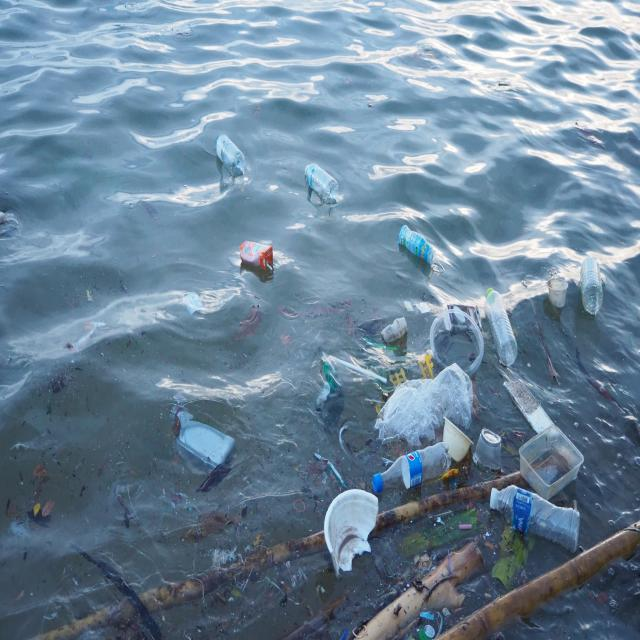foam: (322, 482, 380, 570), (502, 372, 559, 441)
plastic: (487, 482, 583, 550), (169, 398, 242, 470), (371, 438, 448, 487), (484, 281, 516, 363), (397, 225, 436, 266), (211, 131, 245, 175), (582, 247, 603, 317), (304, 162, 337, 204), (378, 313, 408, 344)
plastic bottle: (366, 371, 480, 448), (519, 425, 584, 495), (472, 429, 504, 468), (544, 269, 570, 312)
unknow: (315, 334, 400, 406), (445, 289, 481, 335), (237, 235, 277, 273)
